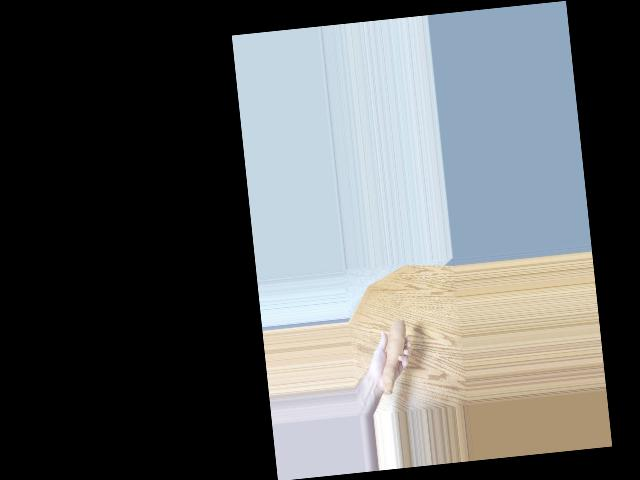sweet_potato: (376, 318, 415, 402)
